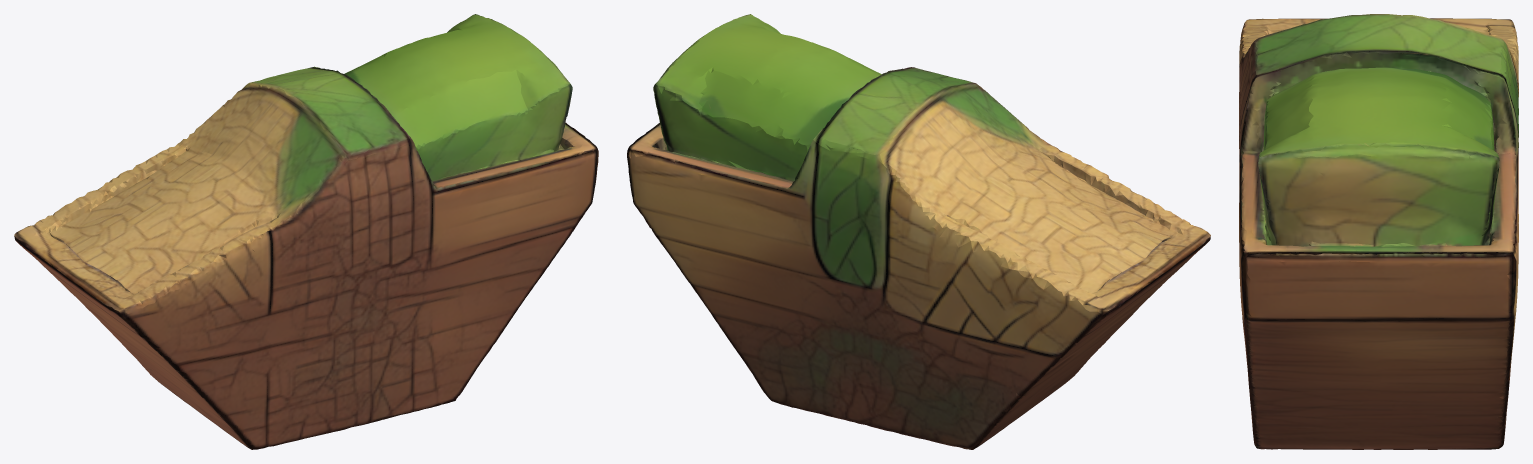
Rendered from Furn_SylvaCot.glb.
3 views of the same model, side by side, from view 1: azimuth 30°, elevation 25°; view 2: azimuth 150°, elevation 25°; view 3: azimuth 270°, elevation 25° (orthographic). The views are drawn at different scales.
Parts seen in each view (by area): view 1: Furn_SylvaCot; view 2: Furn_SylvaCot; view 3: Furn_SylvaCot.
Boxes of the visible parts, bbox=[...] form: Furn_SylvaCot: bbox=[14, 14, 598, 449]; Furn_SylvaCot: bbox=[627, 14, 1210, 449]; Furn_SylvaCot: bbox=[1239, 14, 1518, 449].
Bounding box in the file's own units: 1.45 × 0.8673 × 0.5774.
1 material, 1 textured.
